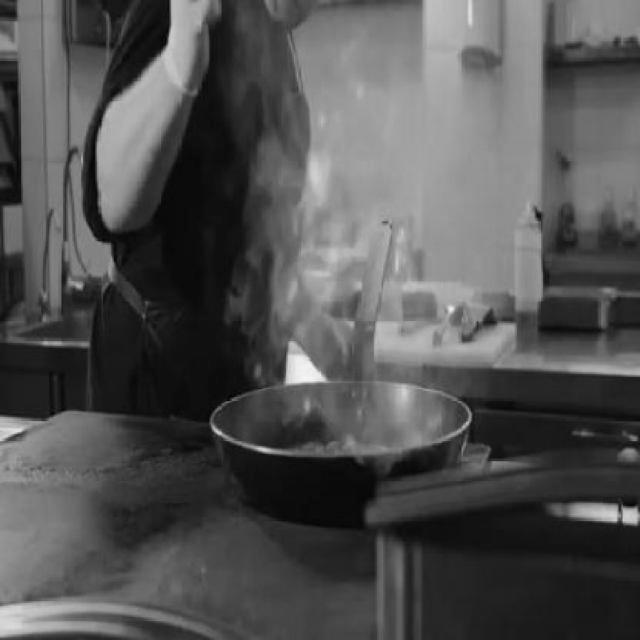smoke: (236, 31, 493, 428)
